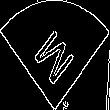M_SW: (31, 21, 79, 89)
